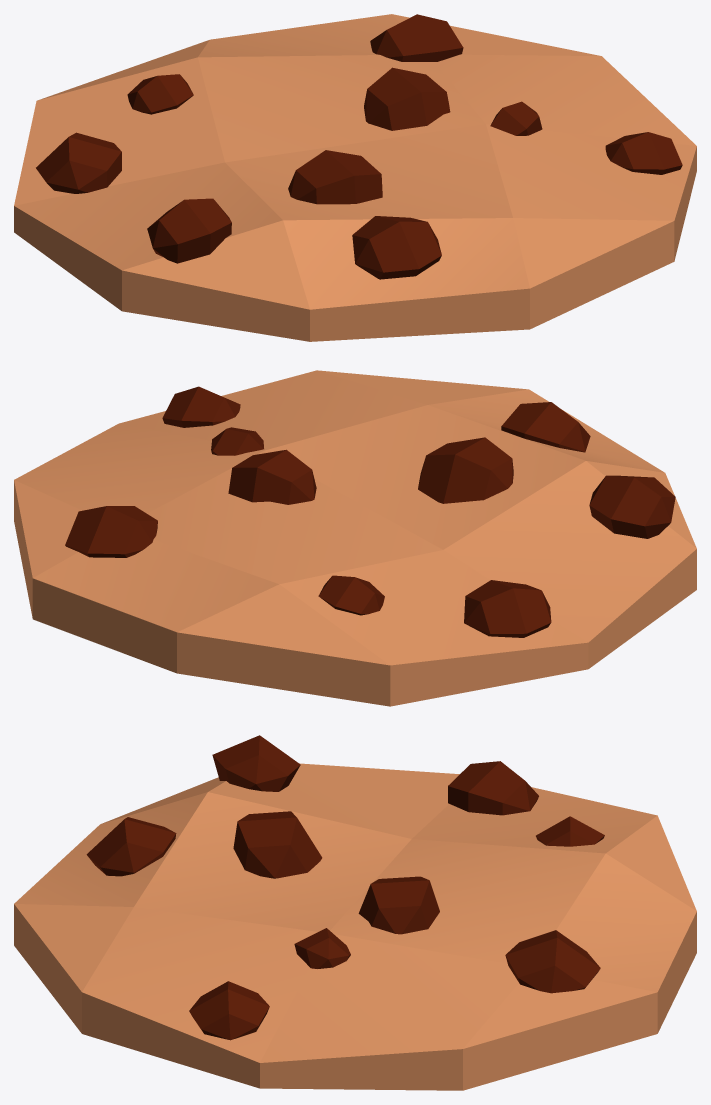
The model's file is cookie.obj.
3 views of the same model, one above another, from view 1: azimuth 30°, elevation 25°; view 2: azimuth 150°, elevation 25°; view 3: azimuth 270°, elevation 25° (orthographic).
Parts seen in each view (by area): view 1: Sphere.012_Mesh; view 2: Sphere.012_Mesh; view 3: Sphere.012_Mesh.
Part boxes in pixels (x1,y1,x2,y2): Sphere.012_Mesh: [14, 14, 696, 341]; Sphere.012_Mesh: [14, 370, 696, 706]; Sphere.012_Mesh: [14, 735, 696, 1090].
Size of the model in its own units: 0.1079 by 0.0172 by 0.108.
